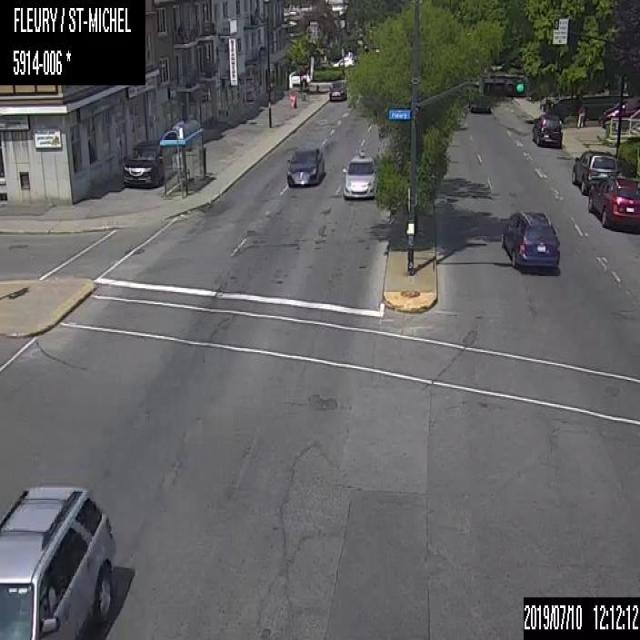pedestrian: (574, 104, 586, 128)
vehicle: (0, 482, 115, 638), (500, 211, 558, 269), (589, 176, 639, 228), (122, 142, 174, 188), (571, 149, 619, 194), (341, 152, 375, 199), (286, 145, 324, 187), (531, 112, 563, 145), (328, 79, 347, 100), (289, 69, 310, 85), (470, 104, 490, 113)
